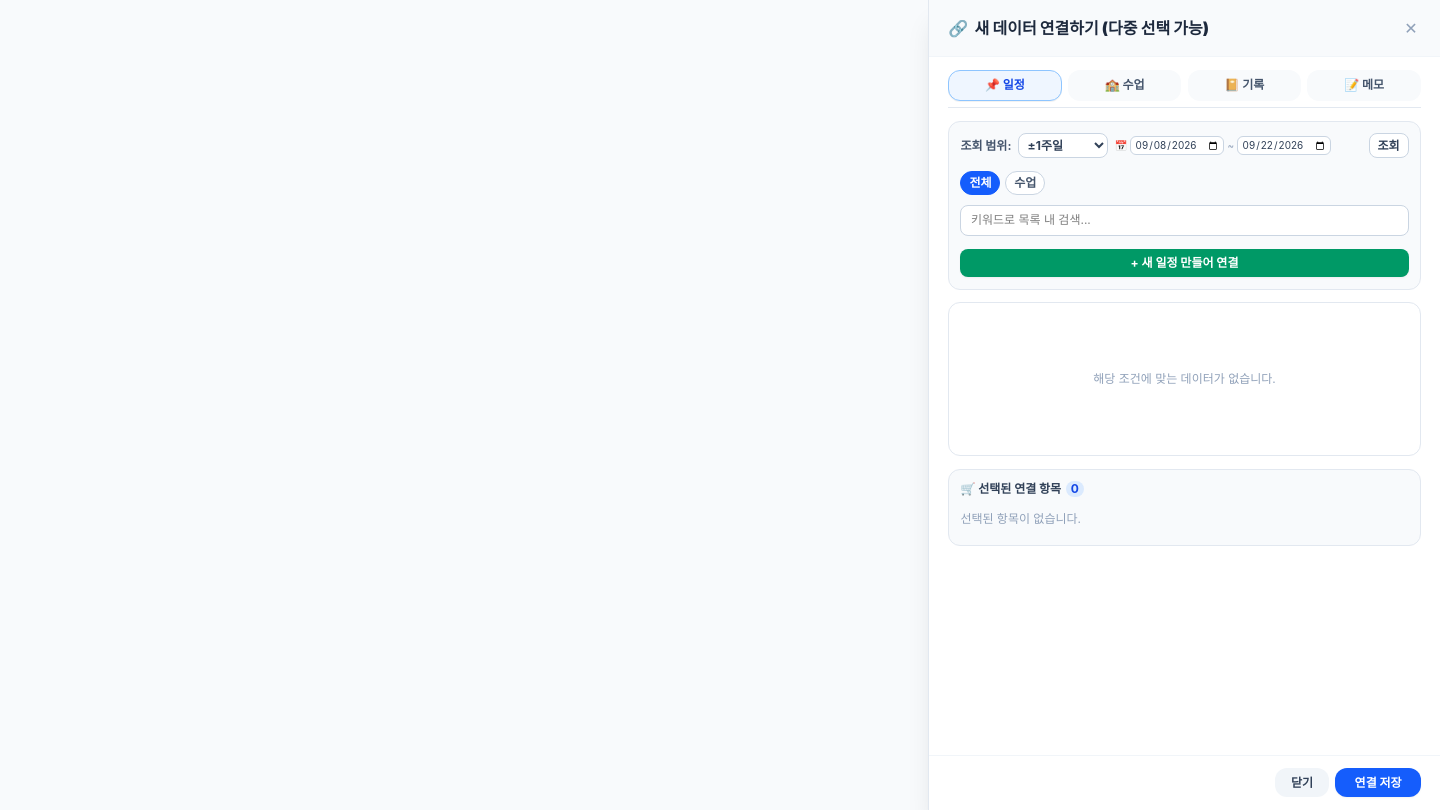
링크 추가 - 새 항목 만들어 연결 › 하루 화면과 같은 기록 칸을 연결하는 쪽 날짜로 열고, 만들어지면 연결 목록에 담는다
Click the button "📔 기록" at (1244, 85), box [1188, 70, 1301, 101]
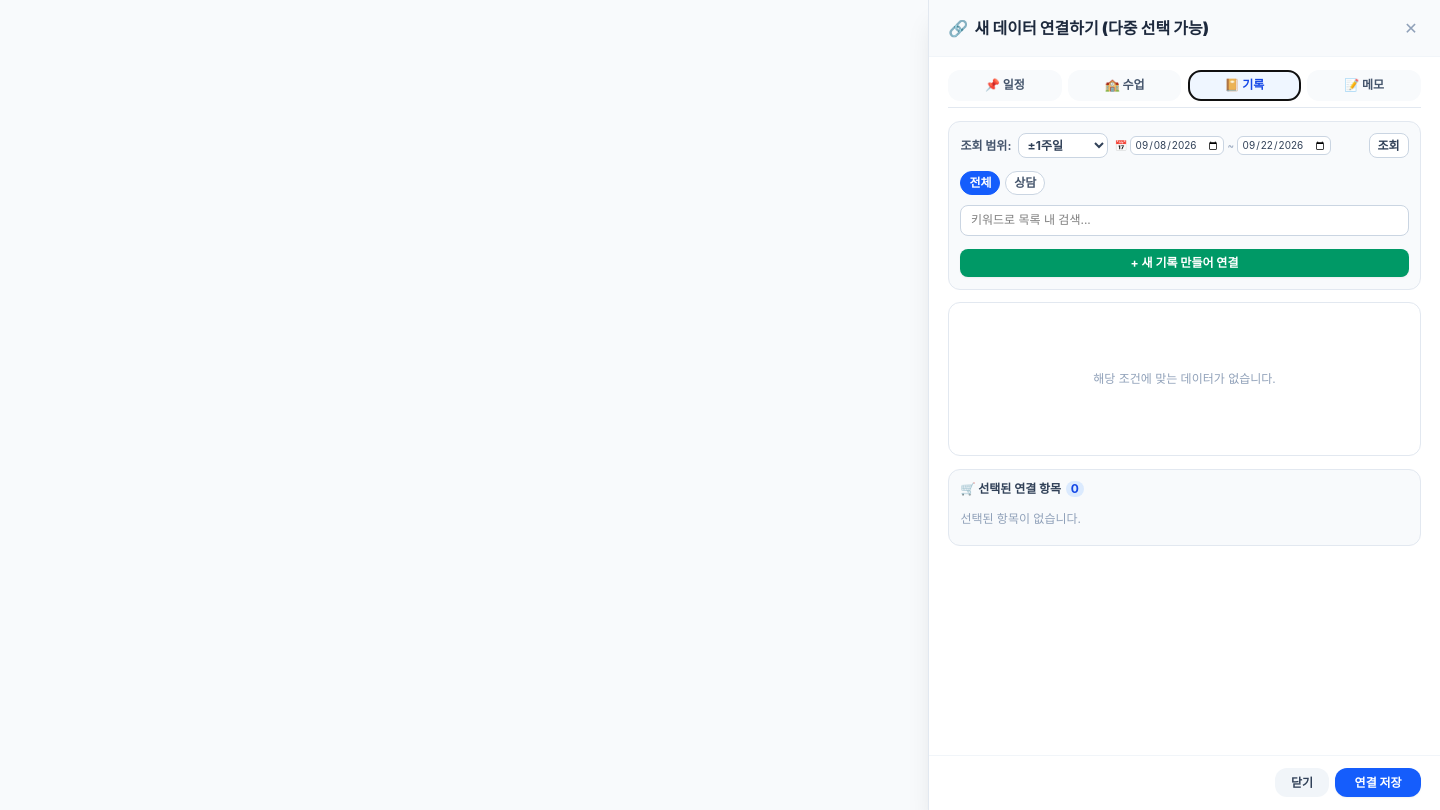
Click the button "+ 새 기록 만들어 연결" at (1185, 263), box [960, 249, 1409, 277]
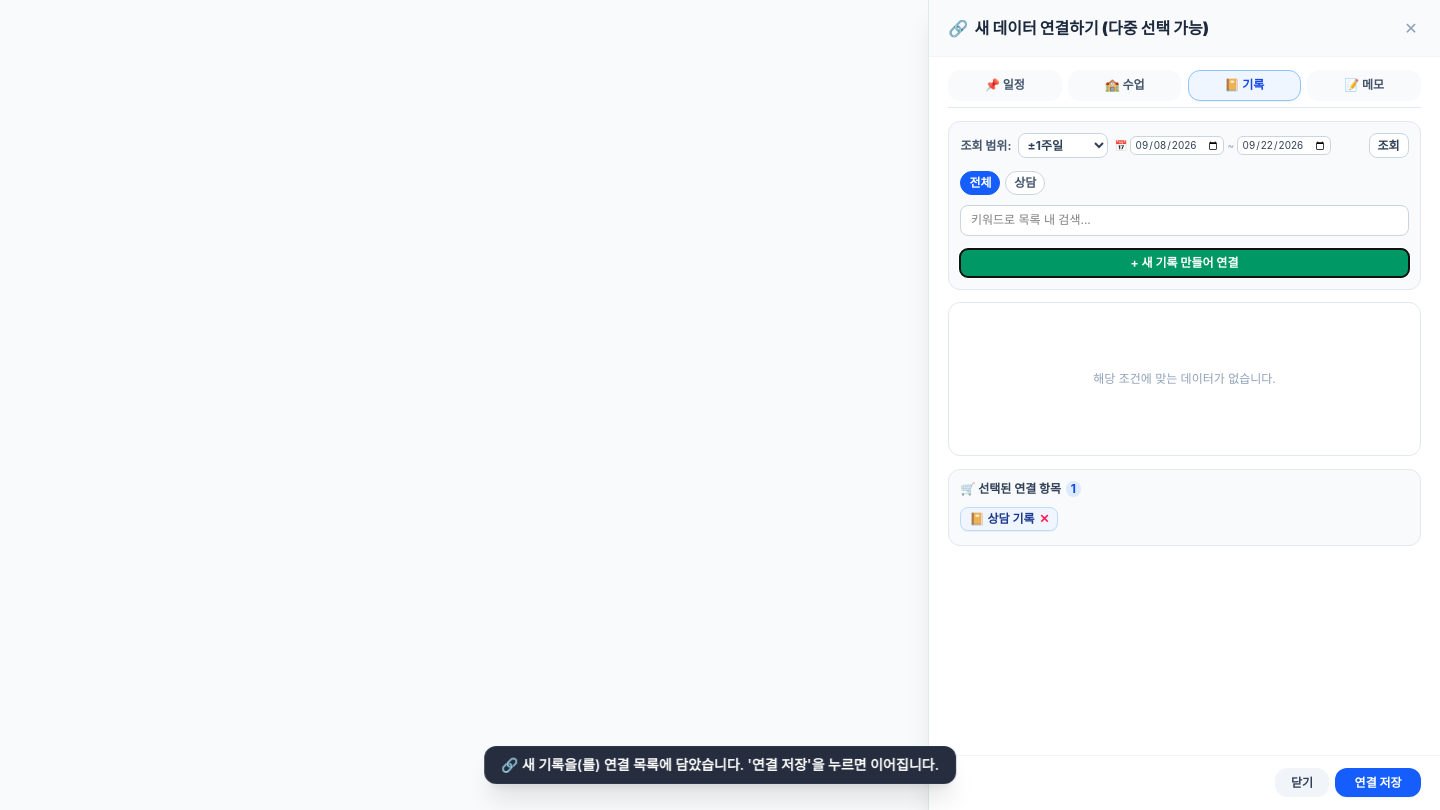
expect the text "상담 기록" is shown: met, box [988, 511, 1034, 527]
